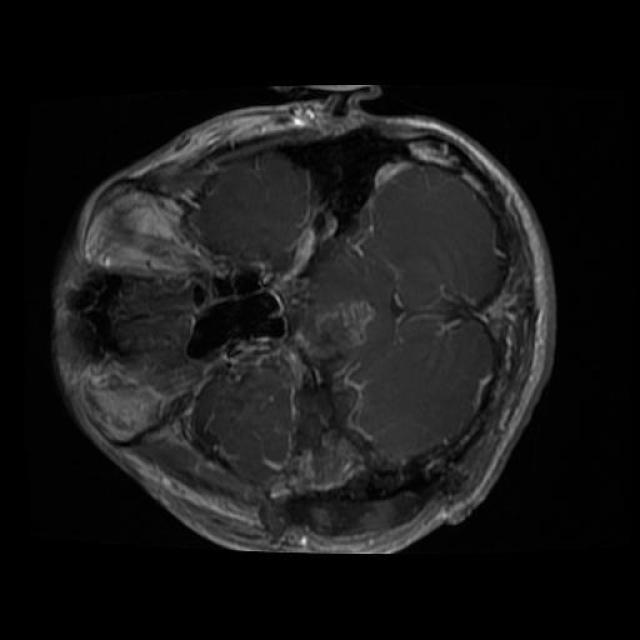Glioma: (294, 300, 375, 356)
